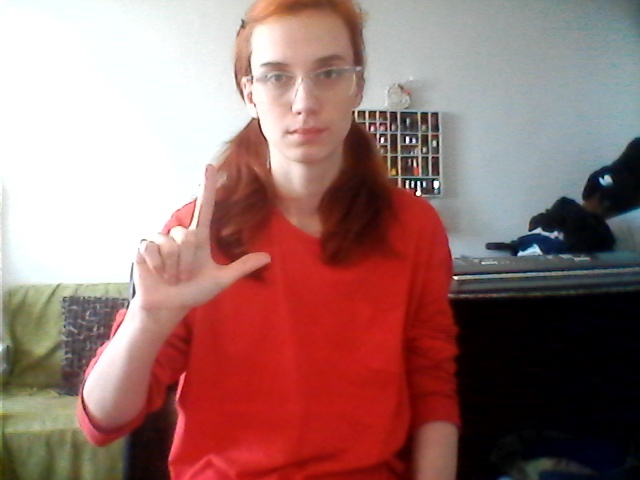l: (122, 162, 275, 305)
